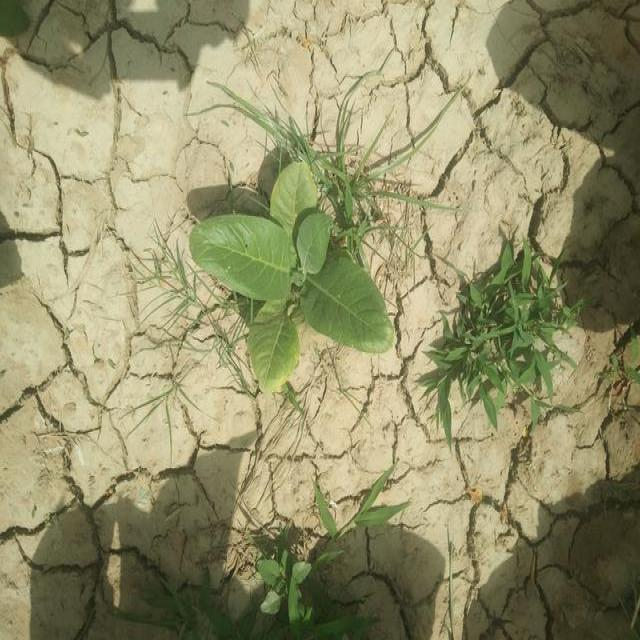crop: (190, 159, 396, 390)
